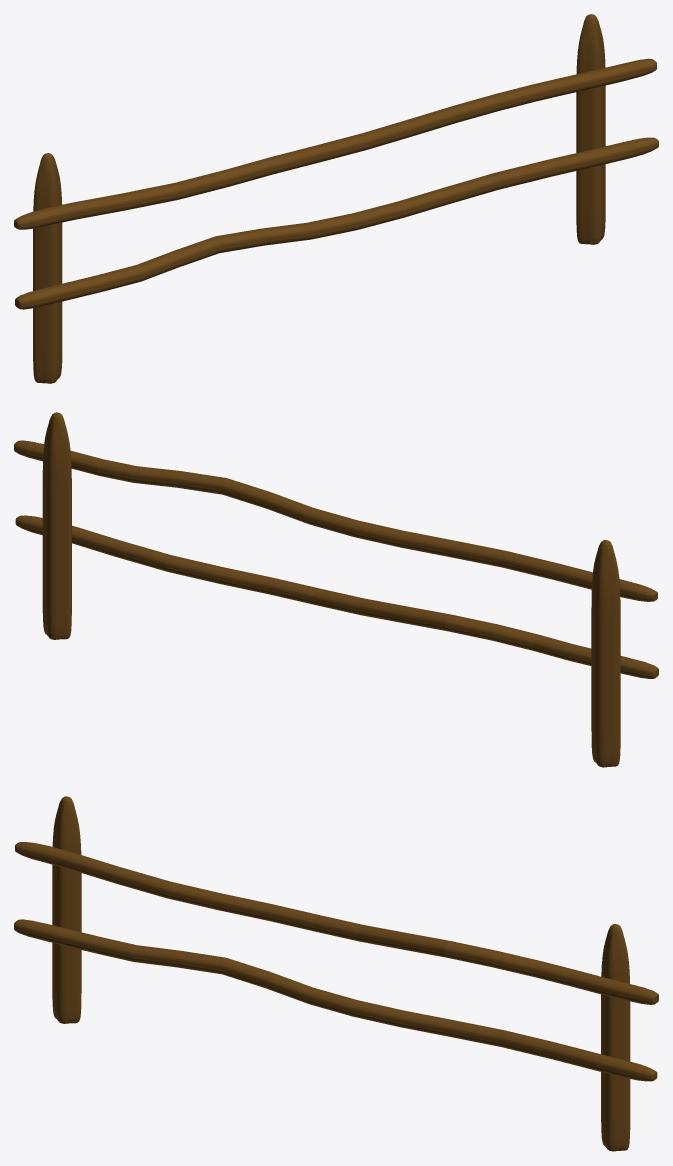
Rendered from plot1.fbx.
3 renders of one model, top to bottom at view 1: azimuth 30°, elevation 25°; view 2: azimuth 150°, elevation 25°; view 3: azimuth 330°, elevation 25°, orthographic.
Visible parts, largest first — view 1: Cube, Cube.001; view 2: Cube, Cube.001; view 3: Cube, Cube.001.
Part boxes in pixels (x1,y1,x2,y2): Cube: (14,58,658,309); Cube.001: (33,14,605,383); Cube: (14,440,658,678); Cube.001: (42,412,620,767); Cube: (14,842,658,1081); Cube.001: (52,796,630,1151).
Bounding box in the file's own units: 404 × 135 × 32.73.
